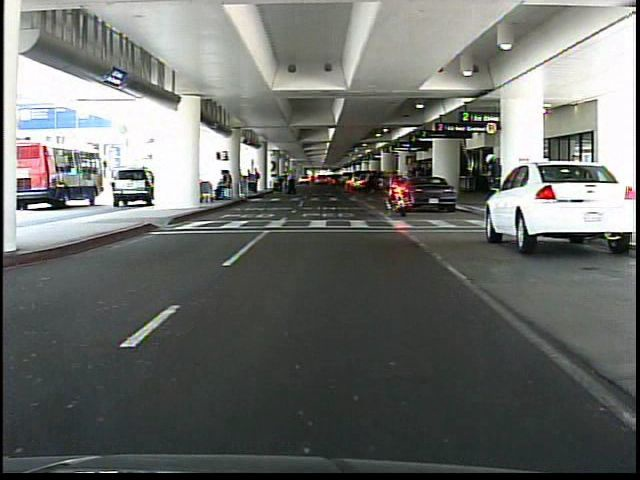person: (477, 149, 504, 221)
